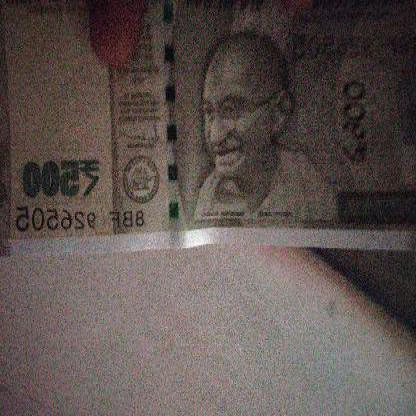New500Front: (1, 1, 415, 255)
